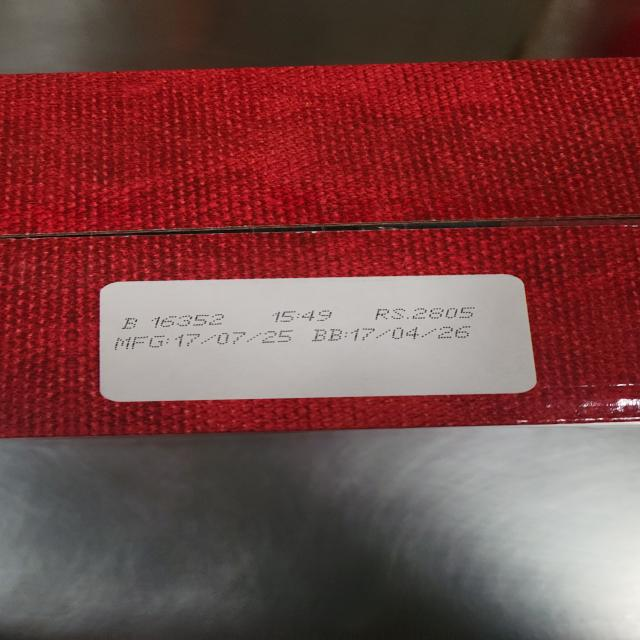BB: (312, 326, 476, 342)
Batch: (121, 315, 225, 329)
MFG: (115, 331, 285, 349)
RS: (375, 307, 481, 320)
TimeStamp: (271, 310, 335, 322)
